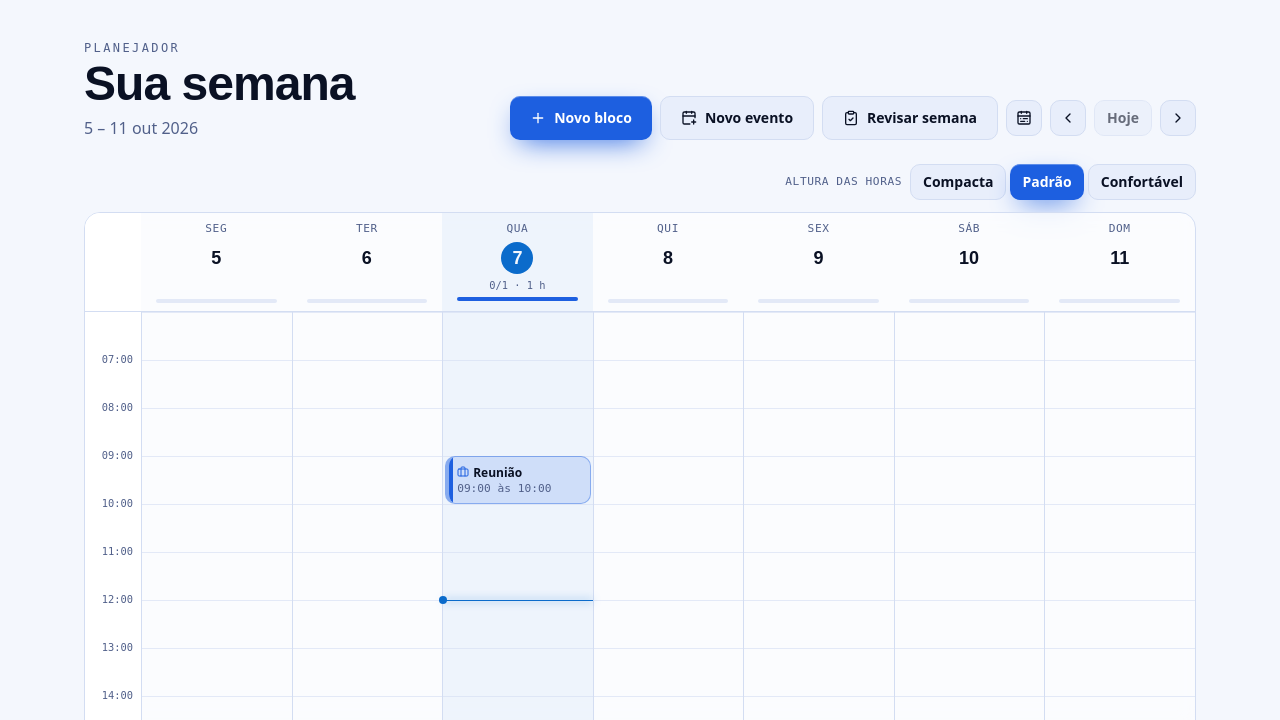
Scenario: ações por ocorrência › painel de detalhes › abre ao clicar no bloco e mostra atividade, área, dia, horário e repetição
Click the button with aria-label "Reunião, quarta-feira" at (518, 480), box [445,456,591,504]
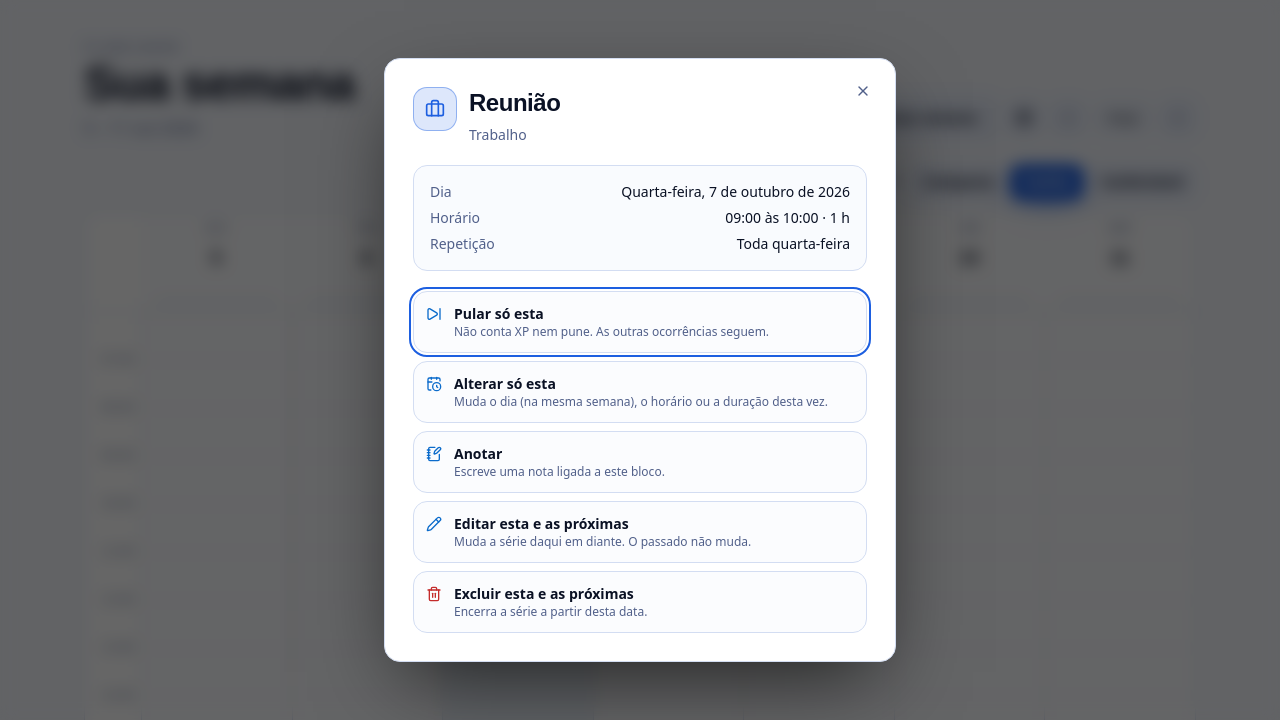
expect the heading "Reunião" is shown: met, box [469,87,560,119]
expect the text "Trabalho" is shown: met, box [469,125,527,144]
expect the text "Quarta-feira, 7 de outubro de 2026" is shown: met, box [621,182,850,202]
